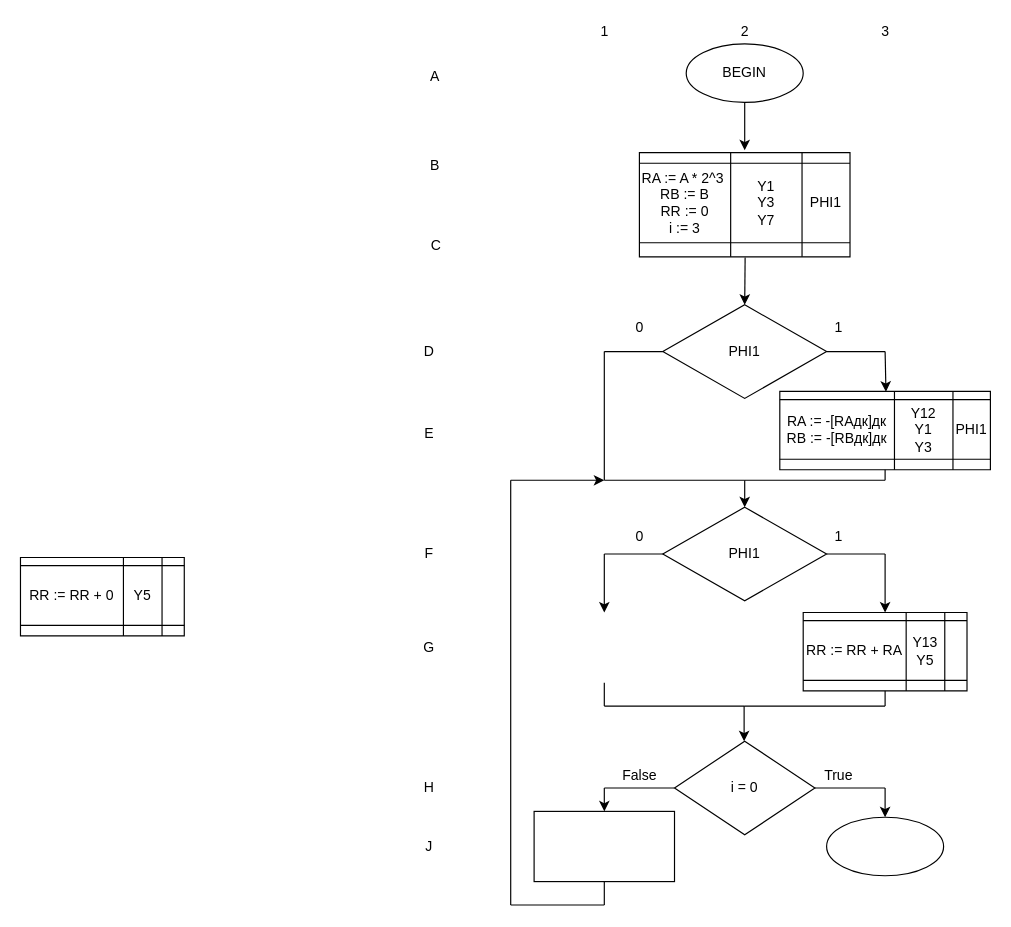
This 1011x927 diagram has some shape labels left out. The centre of each missing label's shape, as x and y in pixels:
"END" belongs at (884,846).
"i := i - 1 RA := RA * 2^-1" belongs at (604,846).
